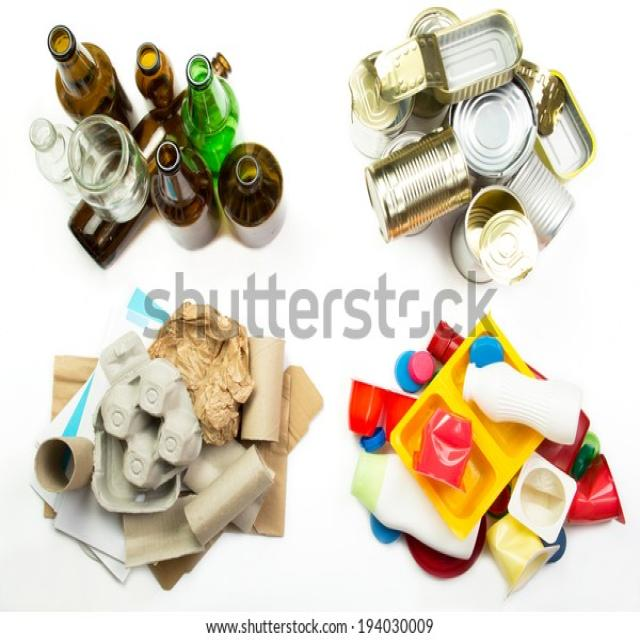cardboard: (51, 326, 282, 582)
glass: (35, 28, 291, 257)
metal: (368, 16, 556, 265)
plastic: (395, 338, 563, 582)
